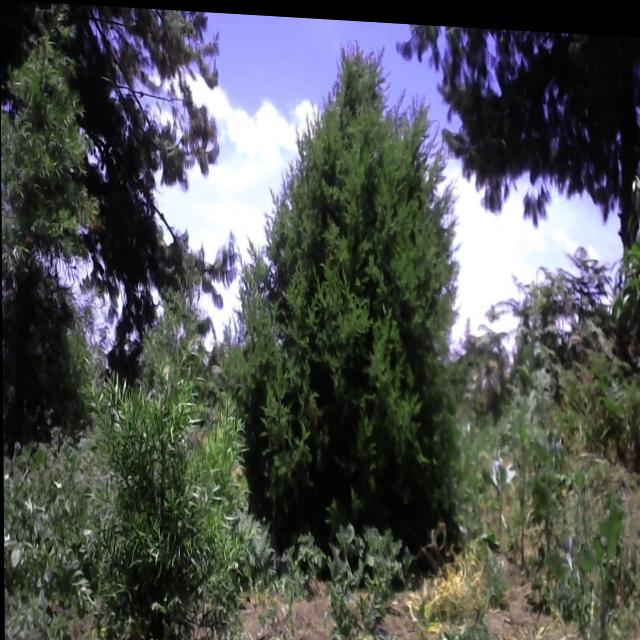Podocarpus falcatus: (92, 310, 228, 640), (6, 29, 95, 452)
cedrus: (223, 32, 473, 566)
